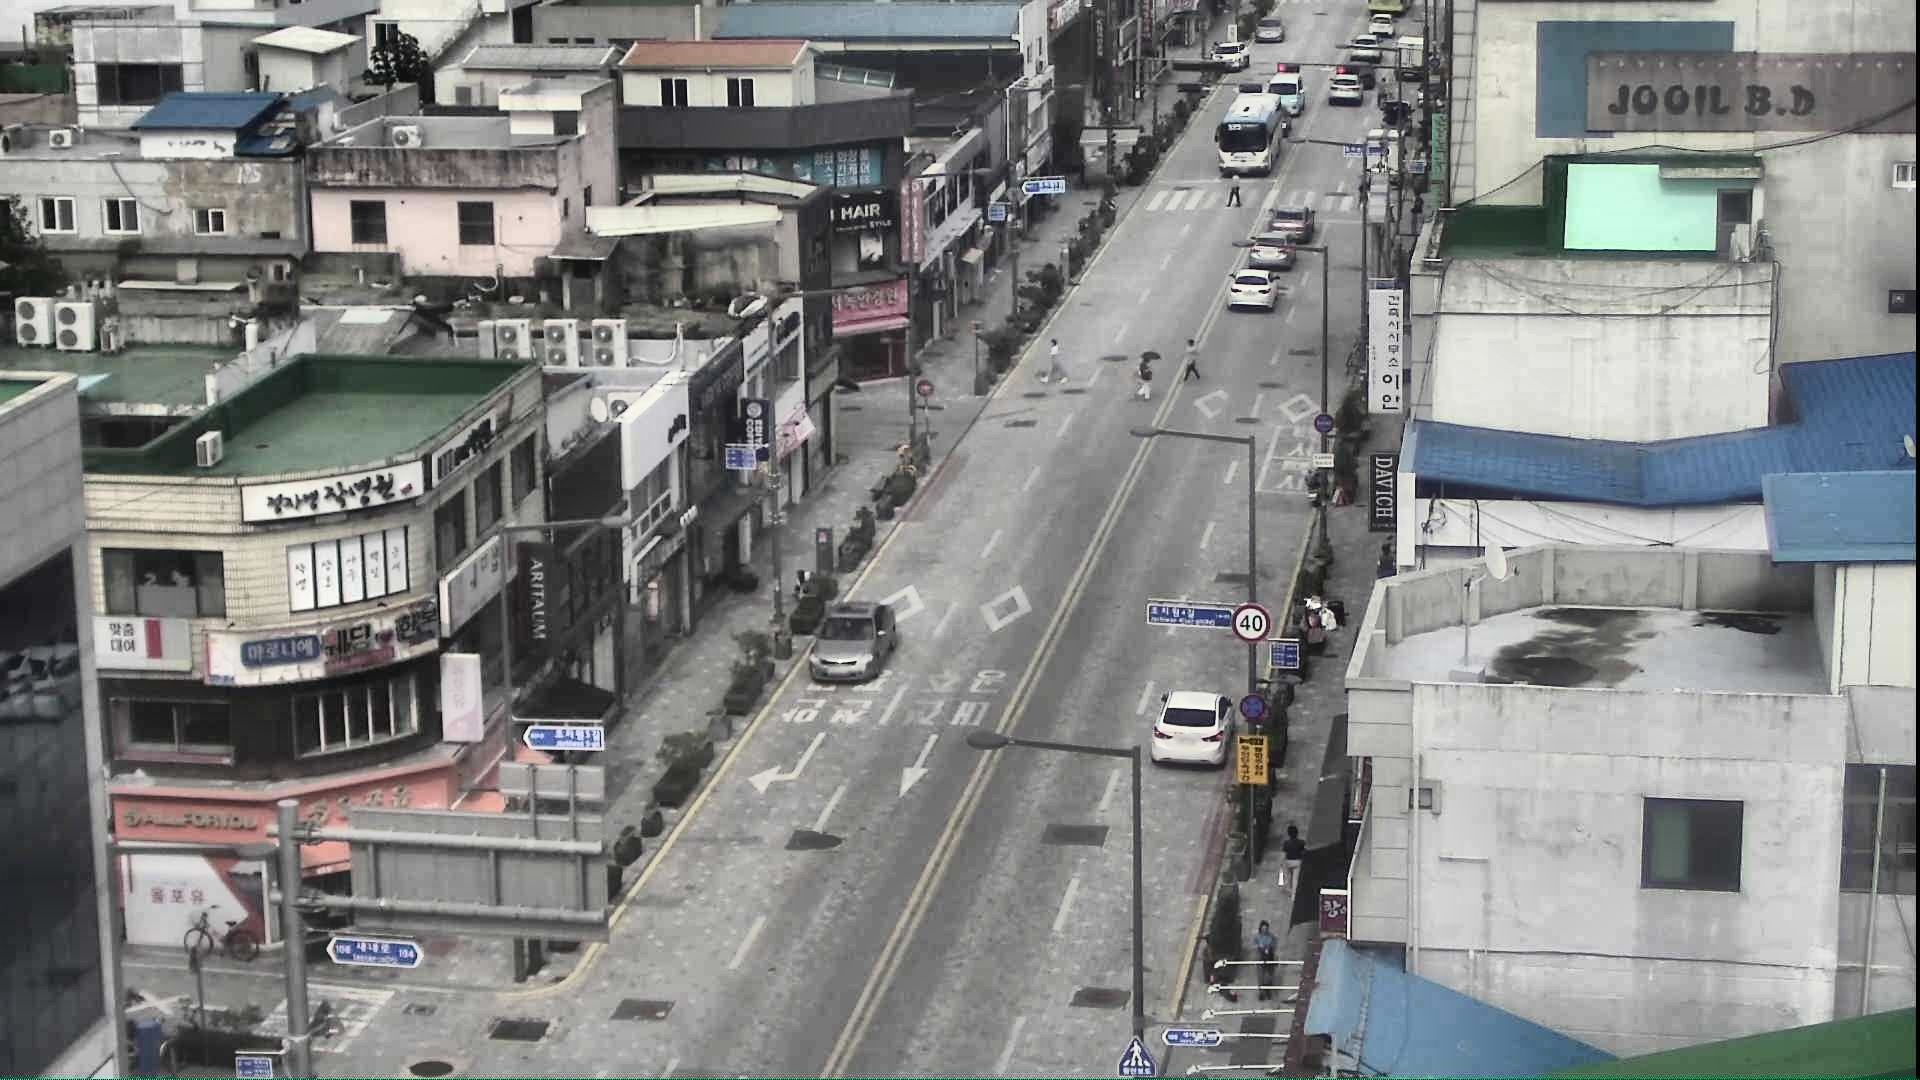crosswalk: (1356, 170, 1374, 216), (1226, 170, 1244, 208)
jaywalk: (1040, 335, 1072, 386), (1182, 338, 1205, 385), (1375, 75, 1393, 107)
sidewalk: (1276, 819, 1308, 897), (1253, 918, 1280, 1002)
um_jaywalk: (1134, 348, 1160, 404)
